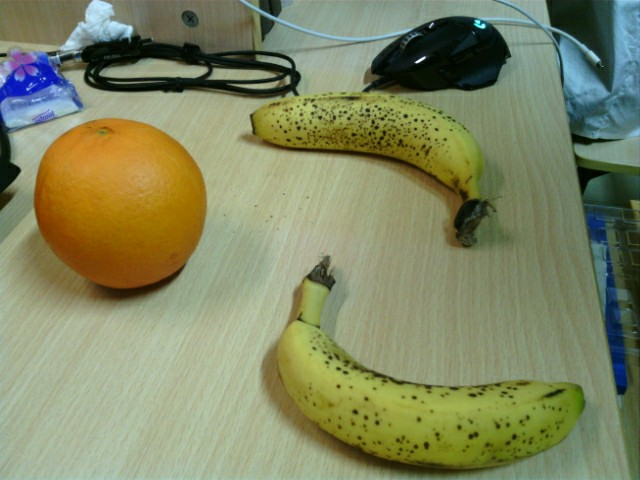normal_banana: (276, 254, 586, 467), (250, 91, 497, 250)
normal_orange: (34, 118, 205, 288)
